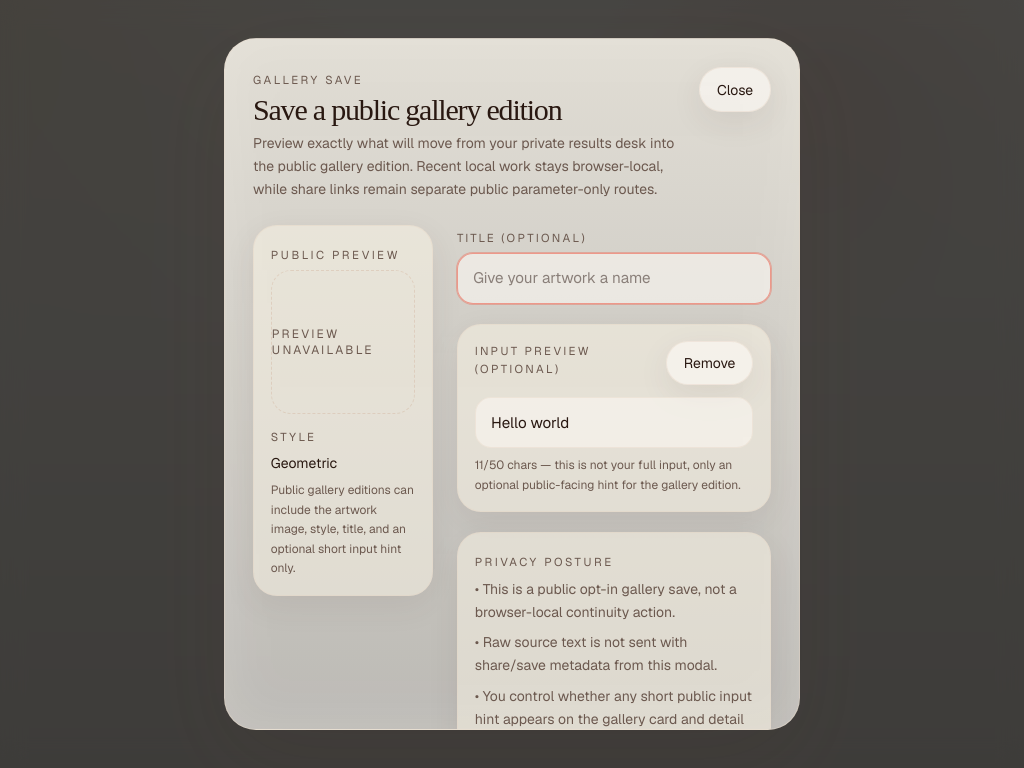
Test: GAL-02: GallerySaveModal allows editing or removing input preview › allows removing input preview via Remove button and exposes a readable status message
Click the button "Remove": {"x": 710, "y": 363} [666, 341, 753, 386]
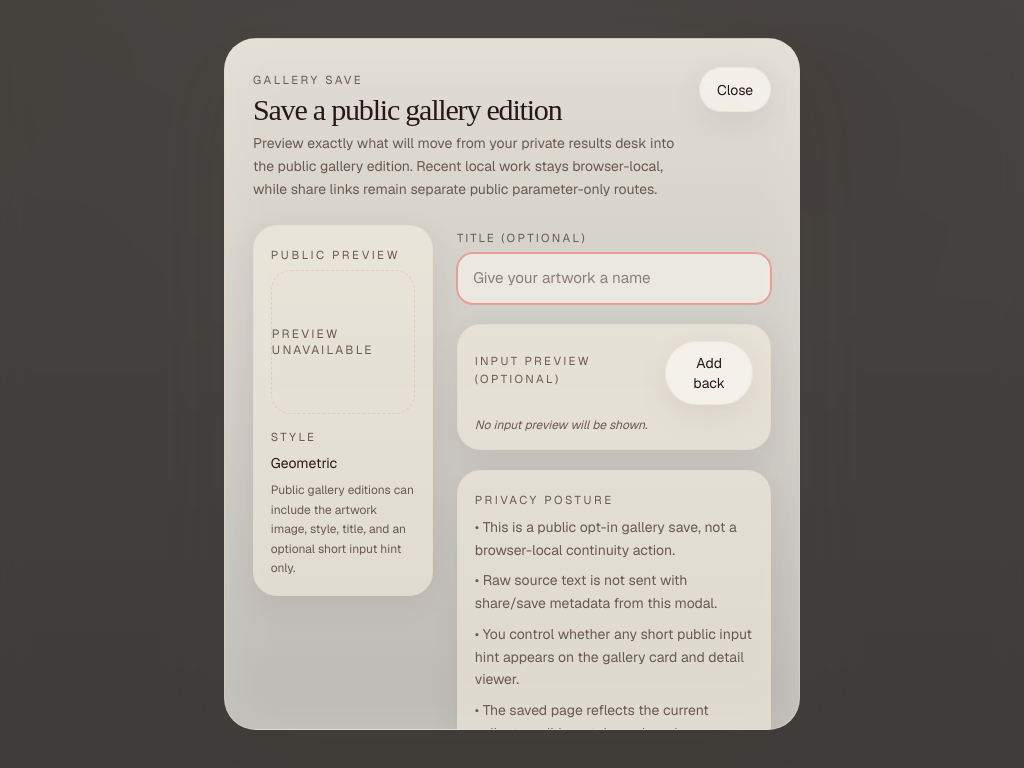
Result: the message shows "No input preview will be shown" at [475, 417, 647, 433]
